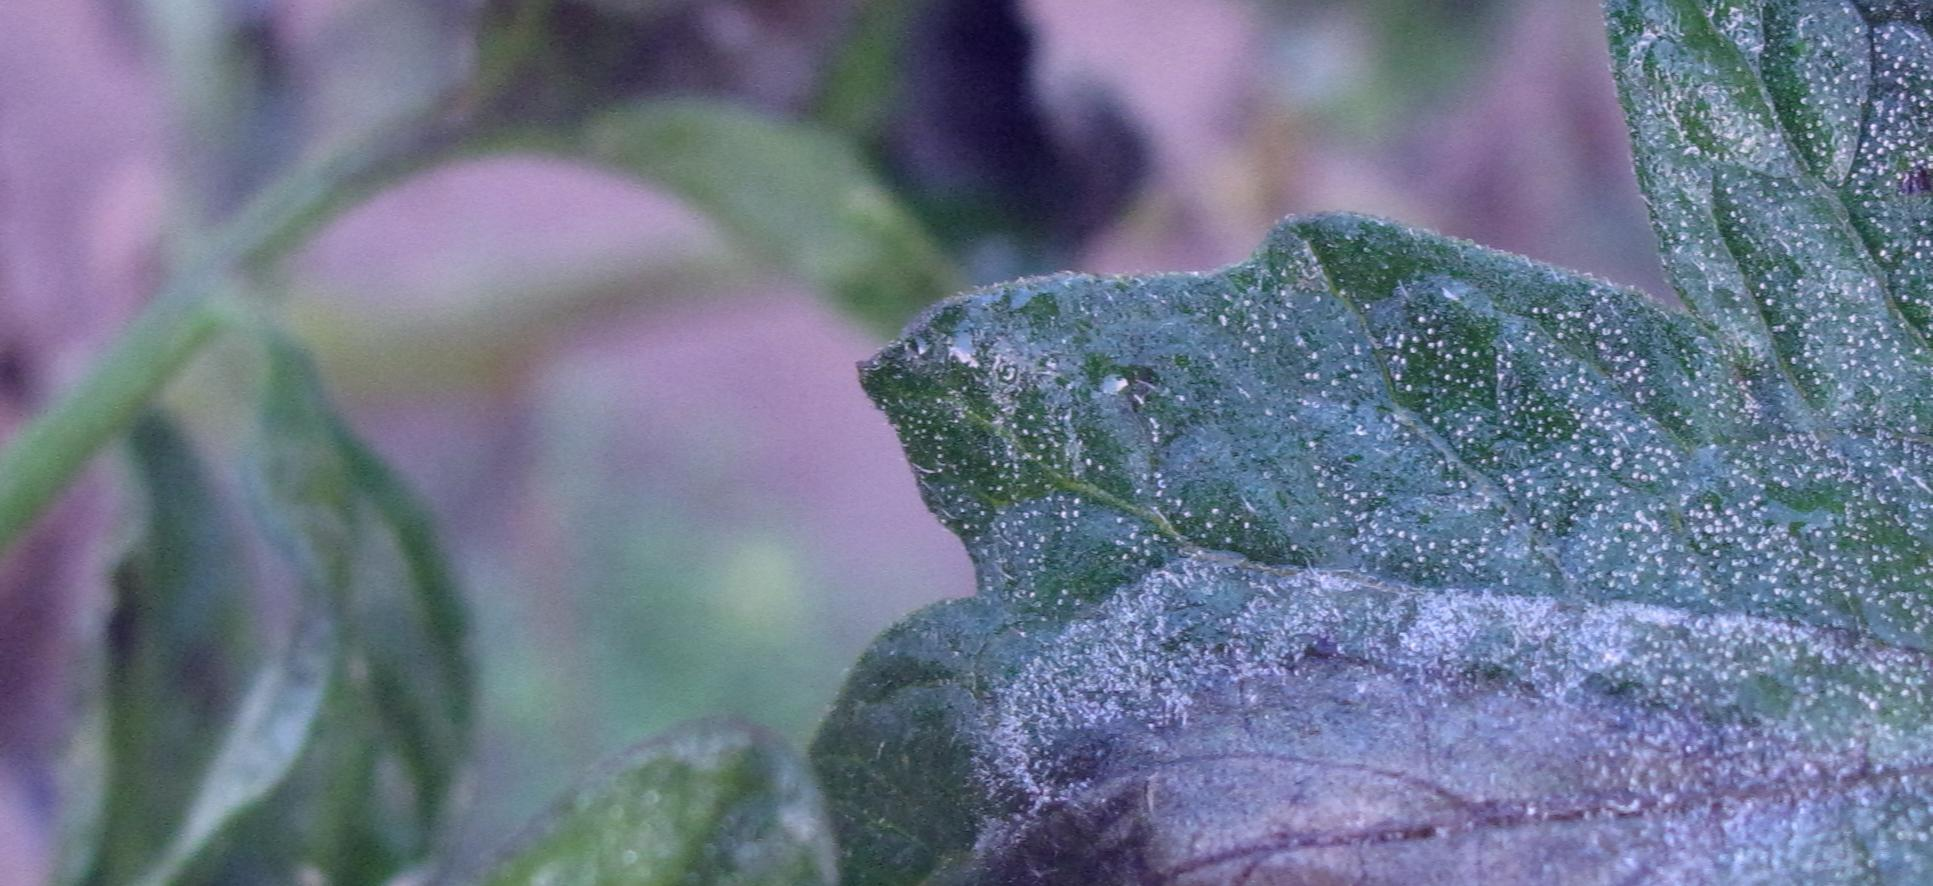Tomato leaf late blight: (513, 0, 1933, 886)
